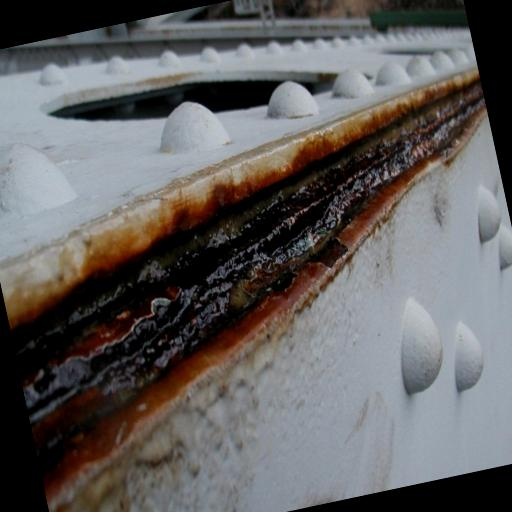segmentation: (11, 95, 485, 430), (0, 68, 480, 331), (42, 262, 330, 509), (339, 196, 385, 245)
